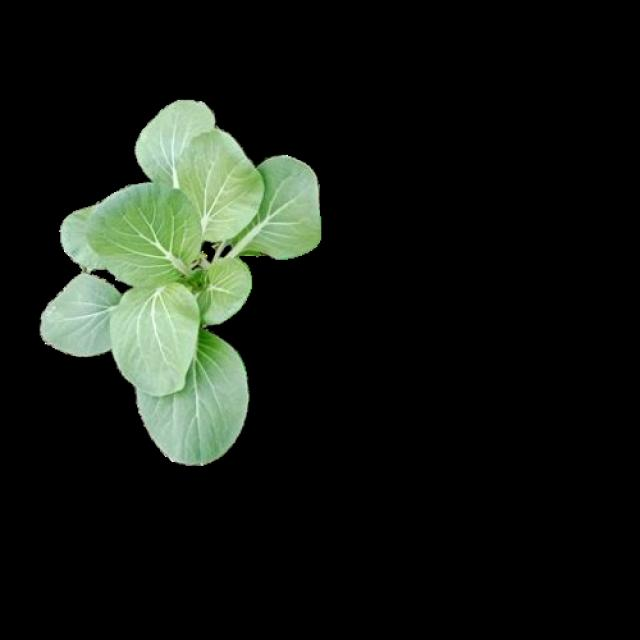not-mature: (37, 98, 328, 464)
unhealthy: (37, 274, 120, 357)
